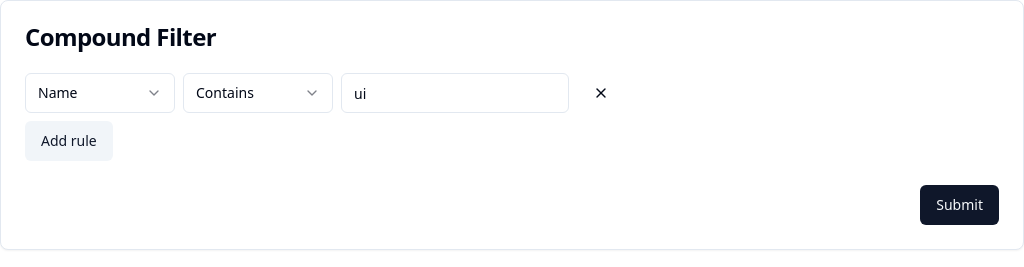
CompoundFilter › should handle remove rule
Expected: the button "Submit" is enabled, [920,185,999,225]
Expected: the field showing "ui" is shown, [341,73,569,113]
Step 1. Click the button named "remove filters.0" → (601, 93), box [577,73,625,113]
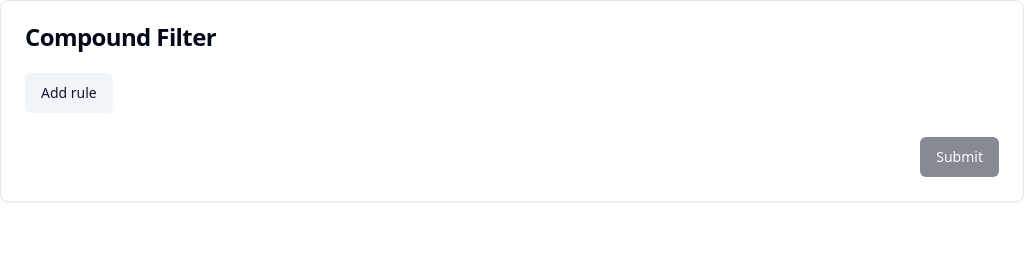
Expected: the button "Submit" is disabled, [920,137,999,177]
